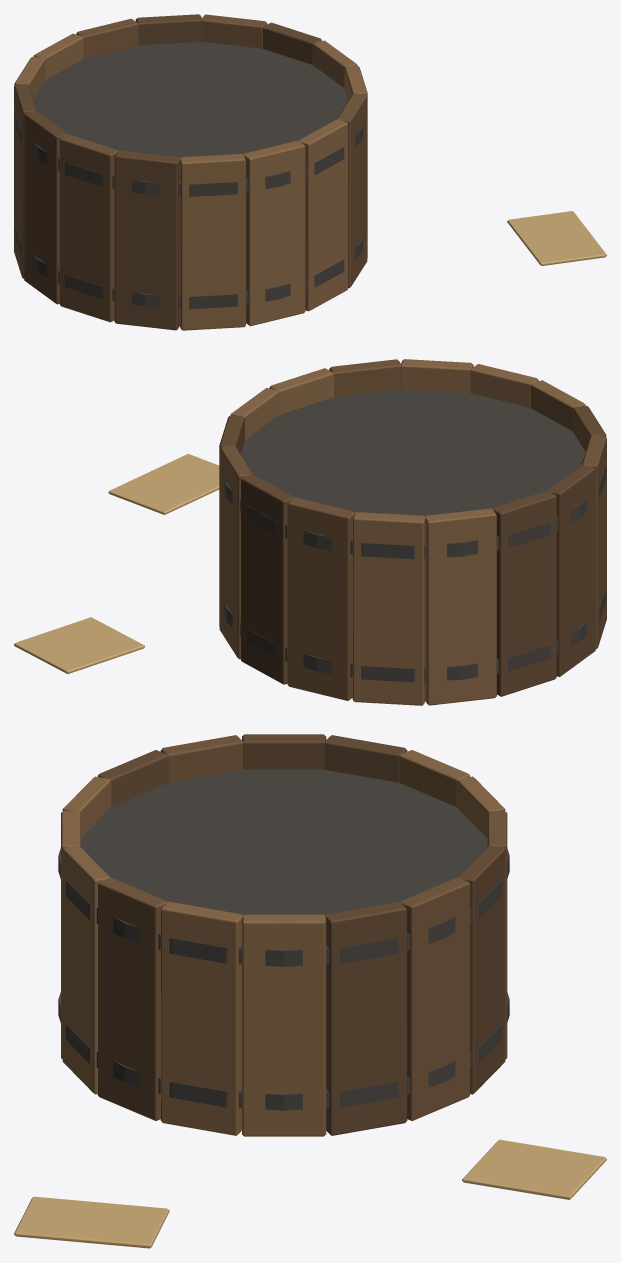
The model's file is WashTub.glb.
3 views of the same model, one above another, from view 1: azimuth 30°, elevation 25°; view 2: azimuth 150°, elevation 25°; view 3: azimuth 270°, elevation 25° (orthographic). The views are drawn at different scales.
Parts seen in each view (by area): view 1: WashTub.001; view 2: WashTub.001; view 3: WashTub.001.
Part boxes in pixels (bbox=[...]): WashTub.001: bbox=[14, 14, 606, 330]; WashTub.001: bbox=[14, 359, 606, 705]; WashTub.001: bbox=[14, 734, 606, 1248].
Bounding box in the file's own units: 1.44 × 0.48 × 1.2.
